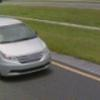cars: (0, 18, 52, 77)
